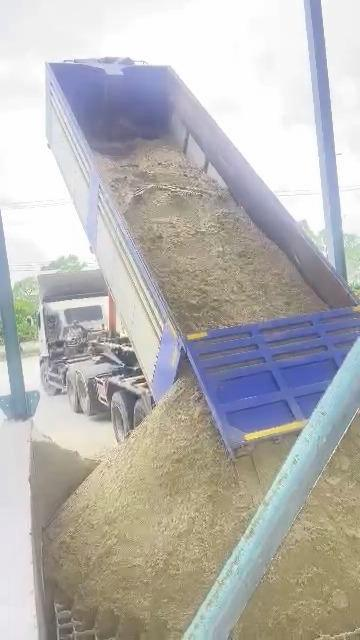sand: (45, 377, 287, 639), (97, 142, 326, 331), (239, 419, 359, 639), (31, 430, 97, 526)
